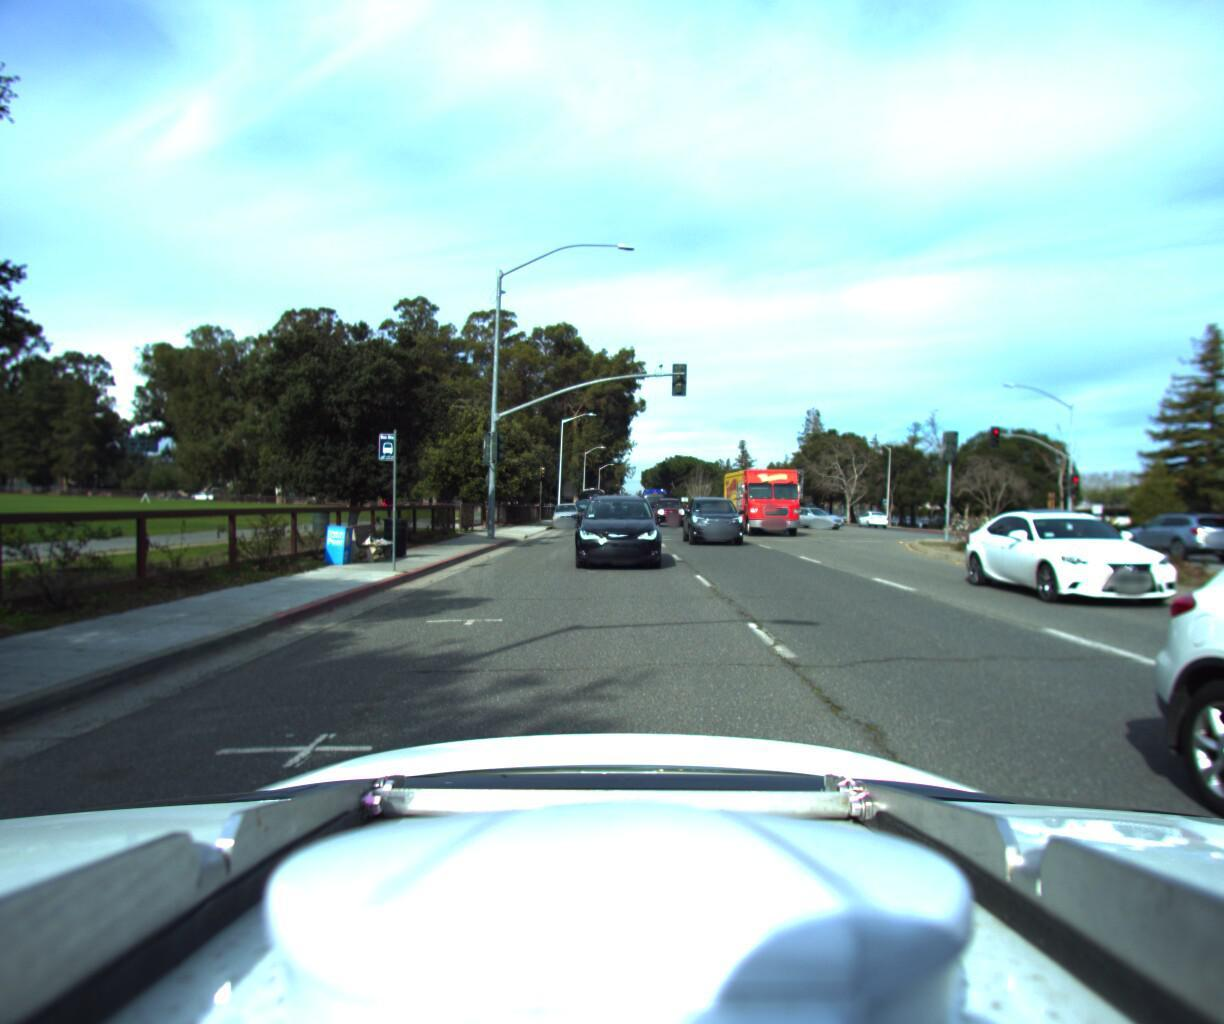bus: (636, 482, 669, 514)
car: (985, 504, 1224, 627), (570, 483, 662, 568), (1107, 503, 1224, 562), (682, 490, 753, 544), (782, 501, 855, 525), (650, 489, 688, 520), (552, 496, 580, 522), (605, 485, 633, 510), (855, 504, 888, 520)
truck: (722, 460, 810, 536)
